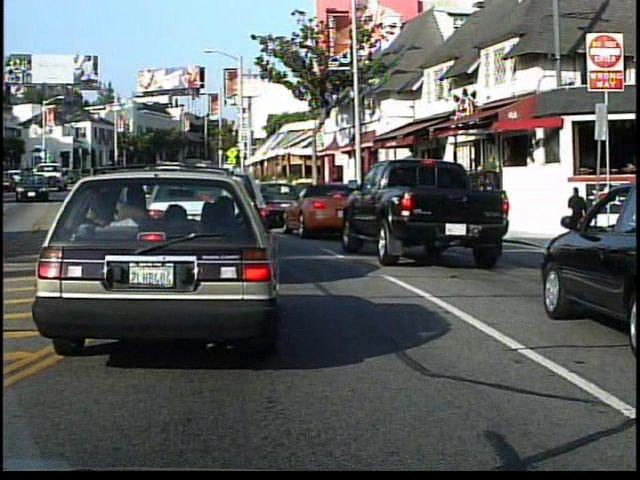person: (480, 152, 501, 173)
